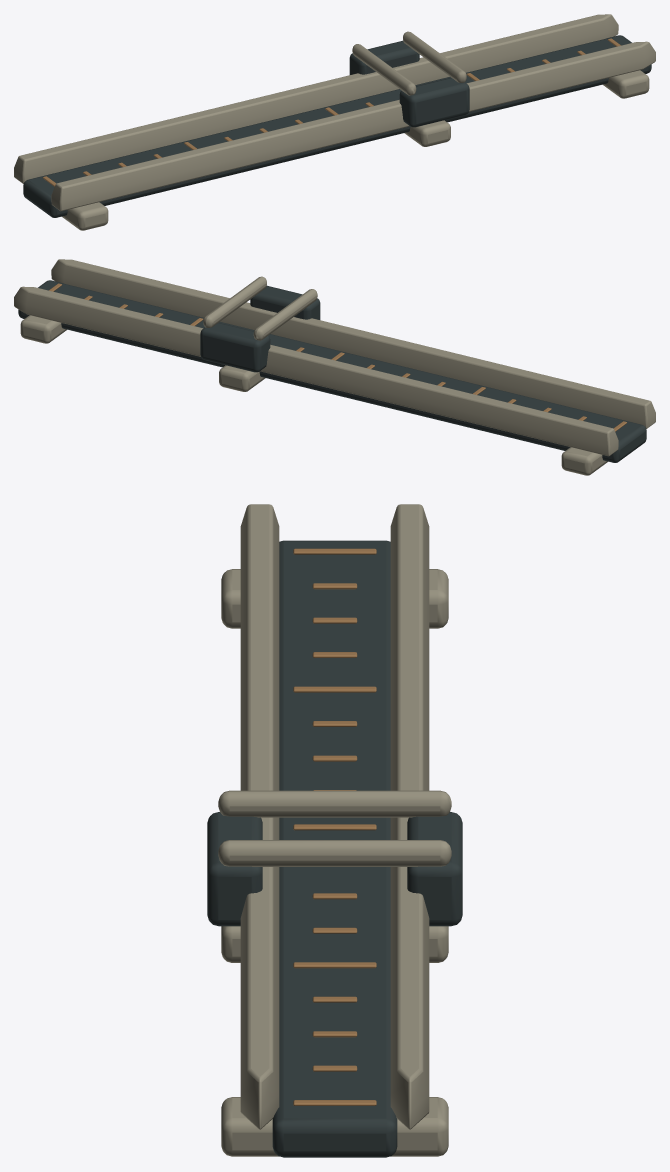
File: measuring_rail_lod0.glb
3 views of the same model, one above another, from view 1: azimuth 30°, elevation 25°; view 2: azimuth 150°, elevation 25°; view 3: azimuth 270°, elevation 25° (orthographic). The views are drawn at different scales.
Visible parts, largest first — view 1: LOD0_ancient, LOD0_substrate, LOD0_vein; view 2: LOD0_ancient, LOD0_substrate, LOD0_vein; view 3: LOD0_substrate, LOD0_ancient, LOD0_vein.
Boxes of the visible parts, box(x1,y1,x2,y2) form: LOD0_ancient: box(14, 14, 655, 230); LOD0_substrate: box(23, 35, 651, 217); LOD0_vein: box(43, 38, 620, 186); LOD0_ancient: box(14, 259, 655, 475); LOD0_substrate: box(18, 280, 646, 462); LOD0_vein: box(49, 283, 626, 431); LOD0_substrate: box(207, 540, 462, 1157); LOD0_ancient: box(218, 504, 451, 1156); LOD0_vein: box(293, 548, 376, 1105).
Bounding box in the file's own units: 5 × 0.54 × 0.92.
